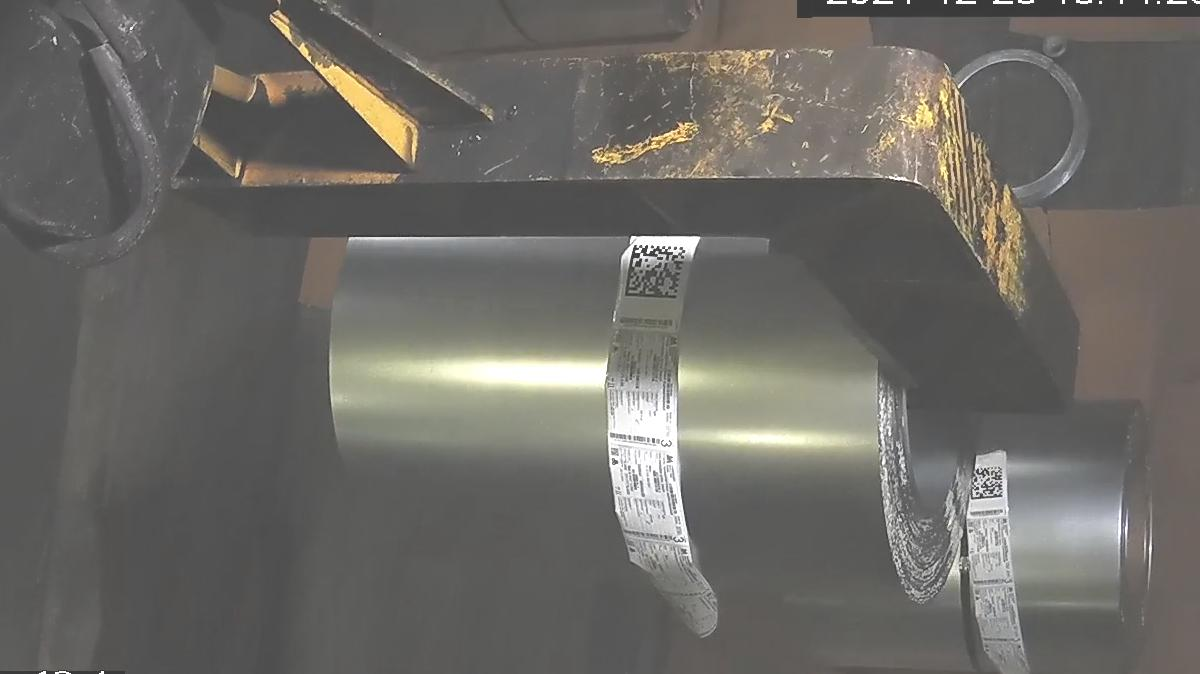data matrix: (622, 240, 693, 304), (969, 465, 1009, 503)
